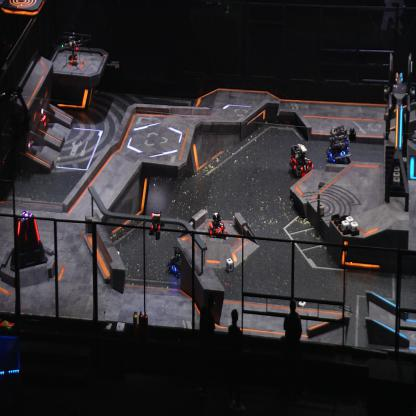car: (324, 125, 352, 165), (289, 141, 314, 178), (167, 244, 187, 277), (206, 211, 228, 240), (30, 106, 49, 132)
